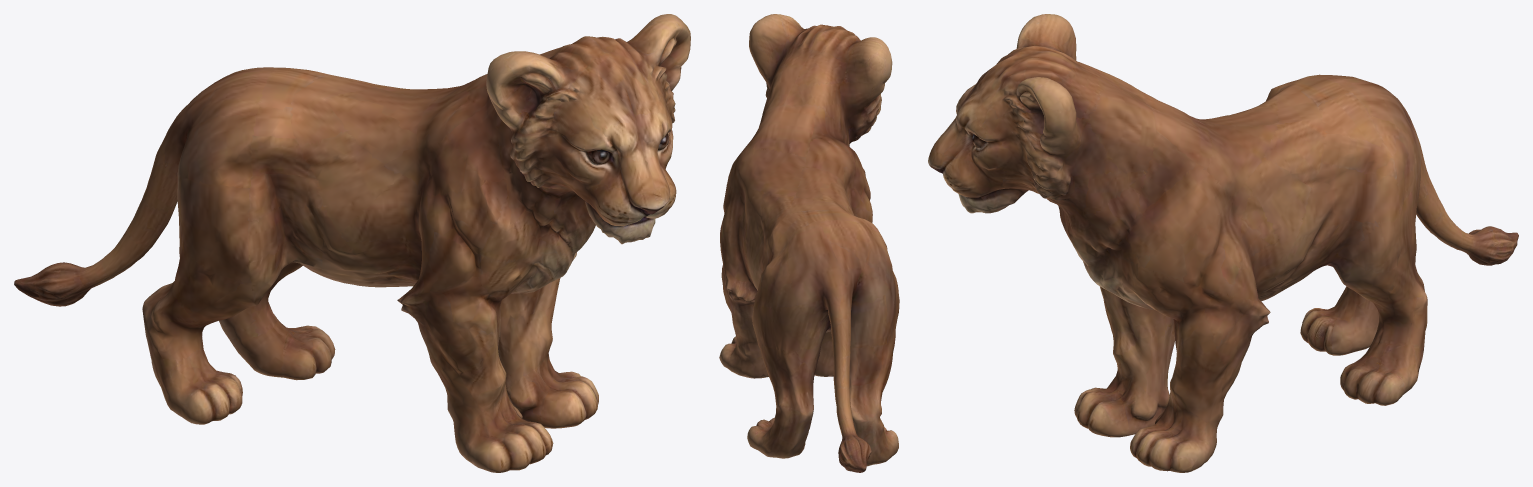
The picture shows the model from 3 angles, left to right: view 1: azimuth 30°, elevation 25°; view 2: azimuth 150°, elevation 25°; view 3: azimuth 270°, elevation 25°; orthographic projection. The views are drawn at different scales.
Bounding box in the file's own units: 1.41 × 1.4 × 1.9.
Materials: 1 (1 with a texture image).
